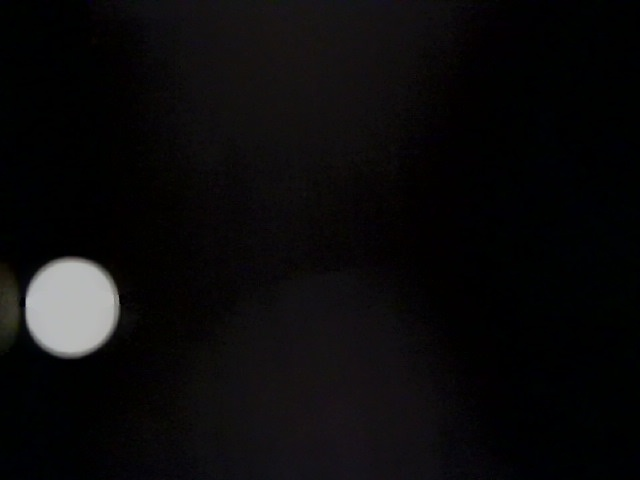QTLJ: (480, 308, 637, 480)
